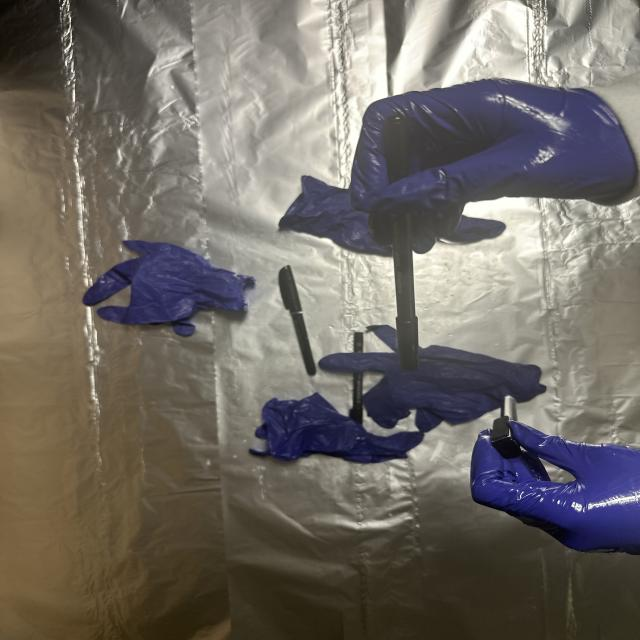gloves_contaminated: (350, 79, 637, 251), (470, 422, 640, 554)
